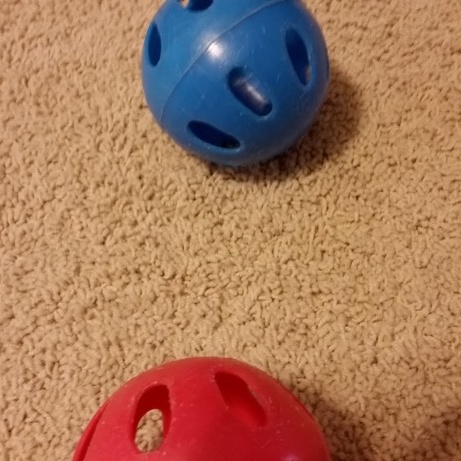blueball: (137, 0, 331, 170)
redball: (67, 351, 336, 461)
